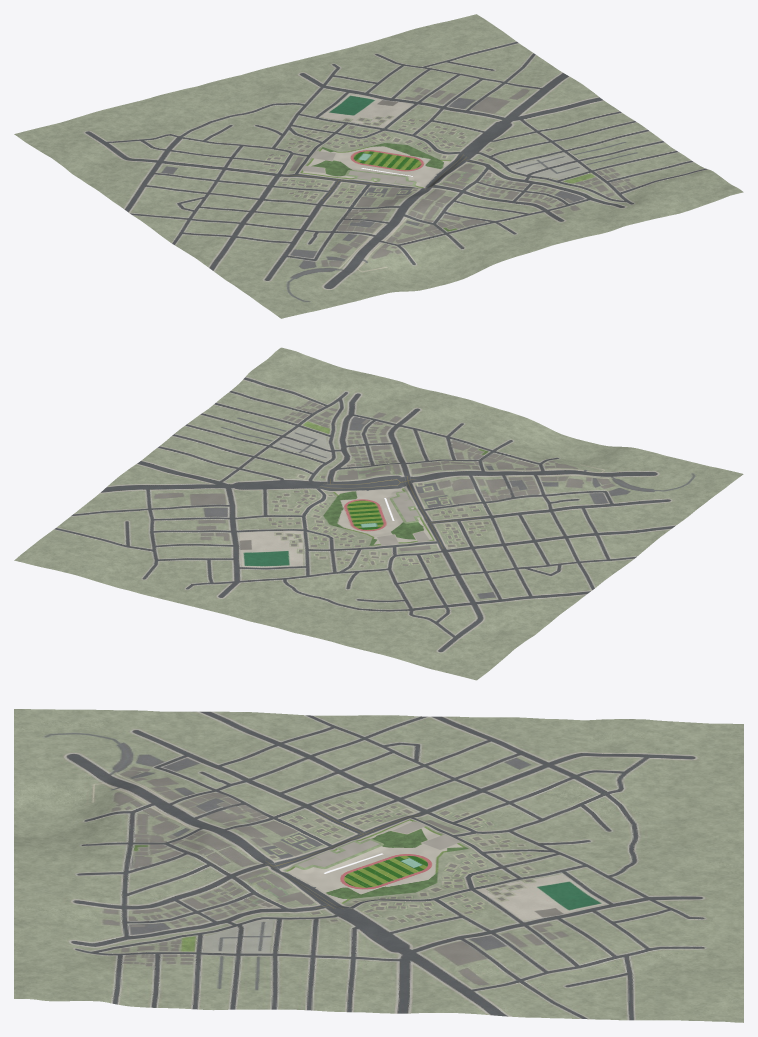
3 views of the same model, one above another, from view 1: azimuth 30°, elevation 25°; view 2: azimuth 150°, elevation 25°; view 3: azimuth 270°, elevation 25° (orthographic). The views are drawn at different scales.
Visible parts, largest first — view 1: ground-area, ground-school; view 2: ground-area, ground-school; view 3: ground-area, ground-school.
Part boxes in pixels (<box>): ground-area: <box>14,14,743,318</box>; ground-school: <box>260,117,491,213</box>; ground-area: <box>14,347,743,680</box>; ground-school: <box>268,464,499,567</box>; ground-area: <box>14,709,743,1022</box>; ground-school: <box>265,809,487,909</box>.
Size of the model in its own units: 992 by 50.23 by 992.
Materials: 2 (2 with a texture image).
